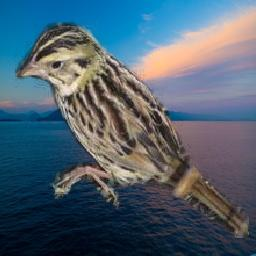Sparrow: (15, 20, 249, 238)
